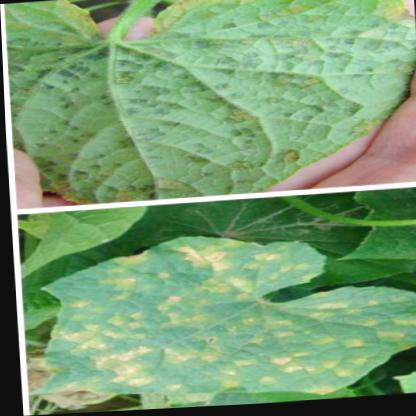DownyMildew: (44, 269, 263, 396), (242, 290, 415, 362), (140, 237, 299, 297)
